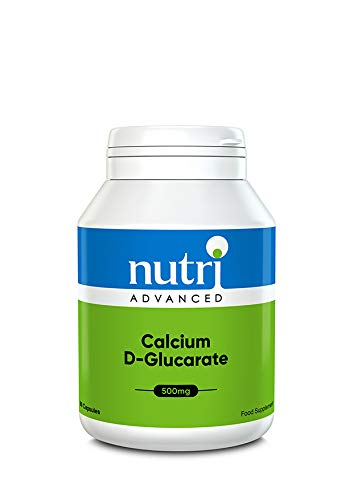ADVANCED: (130, 294, 222, 303)
nutr: (129, 253, 212, 284)
